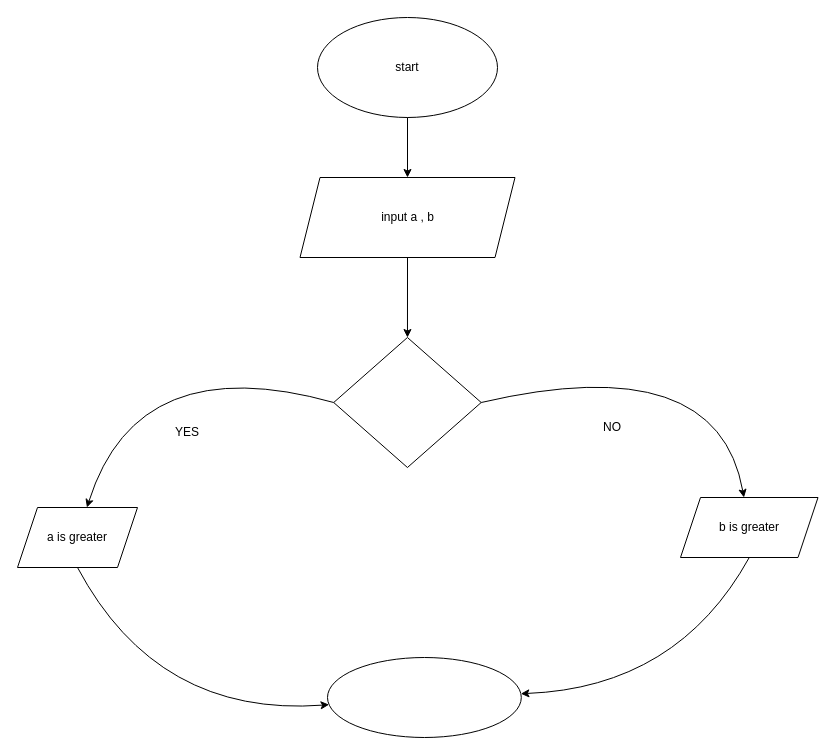
The diagram is 836 pixels wide and 755 high, and some of its shapes have lost their labels. The centre of each missing label's shape, as x and y in pixels:
a > b: (407,402)
end: (423,697)
